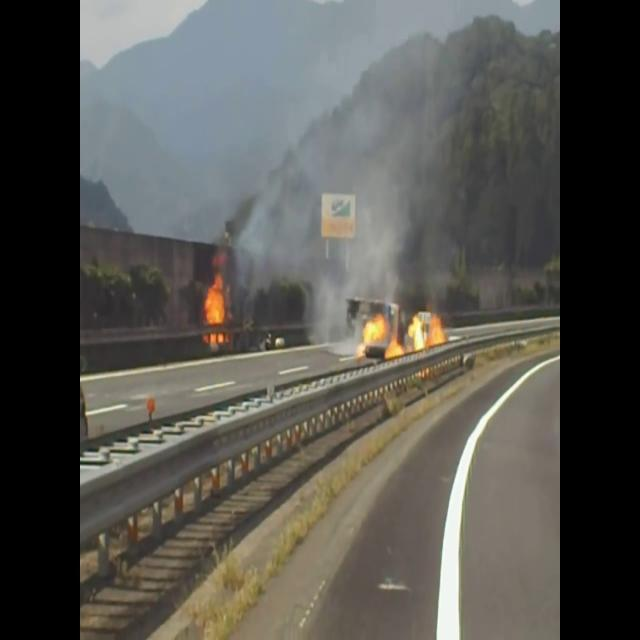Fire: (352, 312, 406, 358), (199, 272, 225, 342), (409, 311, 447, 350)
